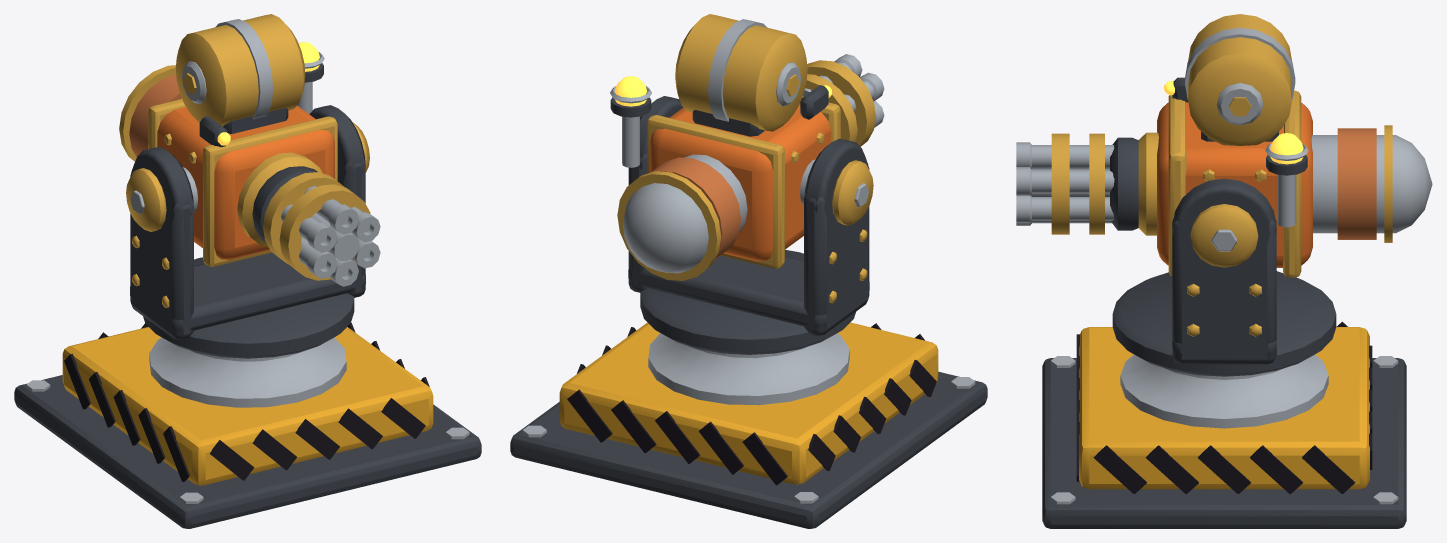
File: part_rivet_turret.glb
3 views of the same model, side by side, from view 1: azimuth 30°, elevation 25°; view 2: azimuth 150°, elevation 25°; view 3: azimuth 270°, elevation 25° (orthographic). The views are drawn at different scales.
Parts seen in each view (by area): view 1: Base, Pitch, Yaw, Barrels; view 2: Base, Pitch, Yaw, Barrels; view 3: Base, Pitch, Yaw, Barrels.
Part boxes in pixels (x1,y1,x2,y2): Base: (14,322,481,528); Pitch: (119,14,337,266); Yaw: (126,42,369,358); Barrels: (252,166,380,286); Base: (510,322,987,528); Pitch: (617,14,840,280); Yaw: (610,76,873,354); Barrels: (803,54,884,146); Base: (1042,321,1406,528); Pitch: (1138,14,1432,277); Yaw: (1112,133,1336,376); Barrels: (1016,133,1138,234).
Bounding box in the file's own units: 0.7 × 0.9 × 0.8.
